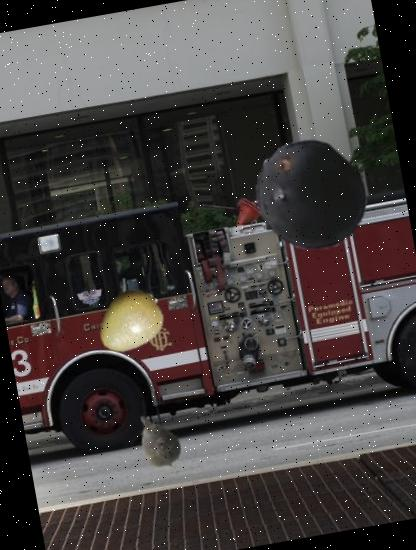Beetroot: (120, 406, 194, 480)
Grape: (244, 128, 378, 262)
Pear: (89, 282, 170, 364)
